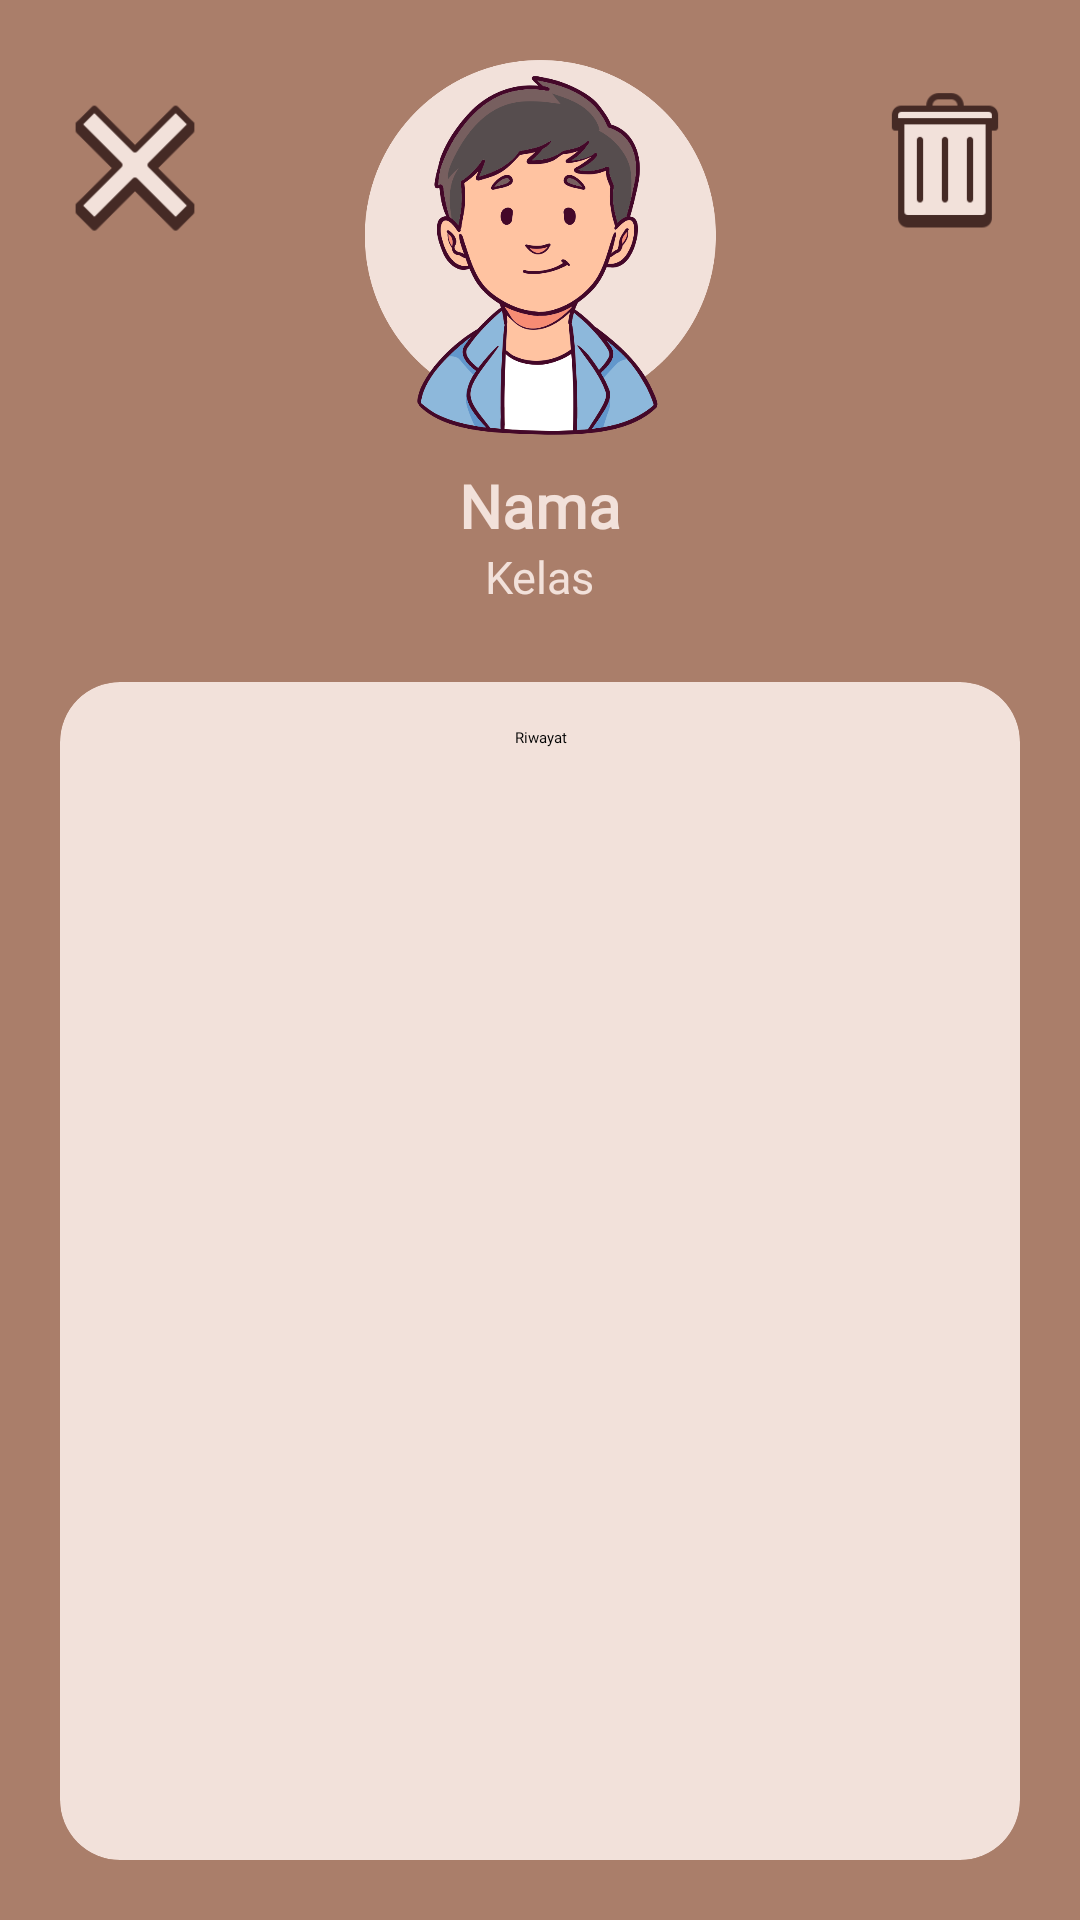

Named icons in this screenshot (1080 x 1920) and their bounding boxes, (x1, y1, x2, y2):
close: (75, 105, 195, 231)
delete: (892, 93, 998, 228)
